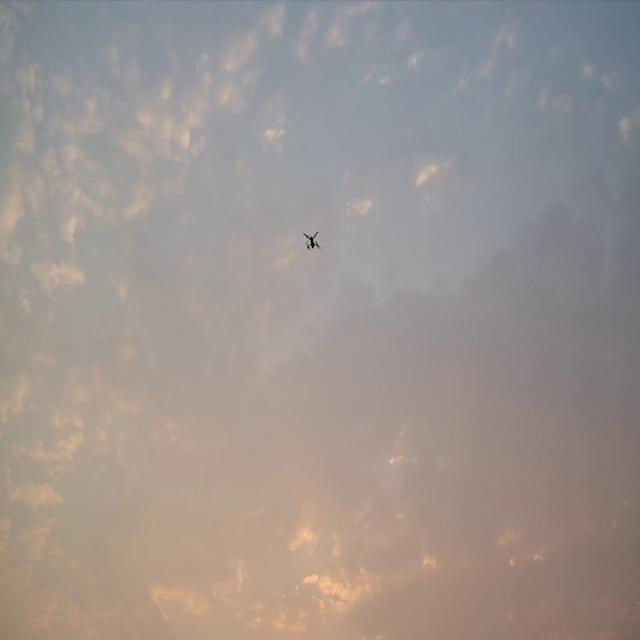UAV: (303, 230, 321, 250)
